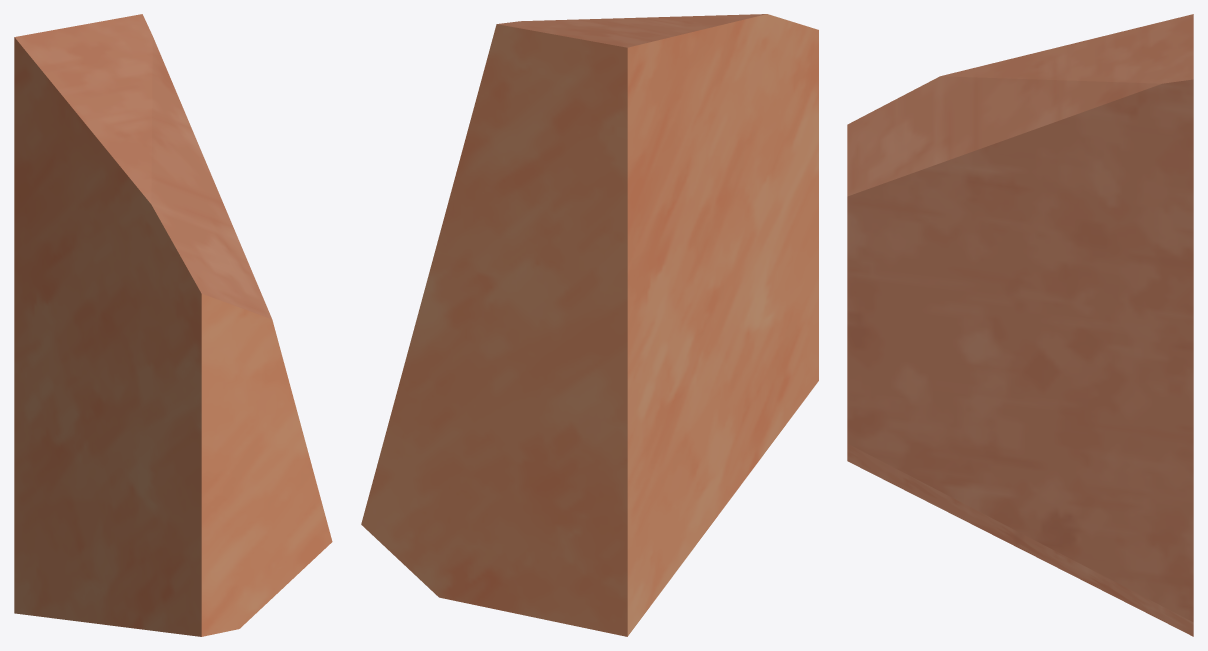
File: townwall_s02.fbx
3 renders of one model, left to right at view 1: azimuth 30°, elevation 25°; view 2: azimuth 150°, elevation 25°; view 3: azimuth 270°, elevation 25°, orthographic. The views are drawn at different scales.
Parts seen in each view (by area): view 1: townwall_s02; view 2: townwall_s02; view 3: townwall_s02.
Boxes of the visible parts, <box> form: townwall_s02: <box>14,14,332,636</box>; townwall_s02: <box>361,14,818,636</box>; townwall_s02: <box>847,14,1193,636</box>.
Bounding box in the file's own units: 2.41 × 5.15 × 3.
